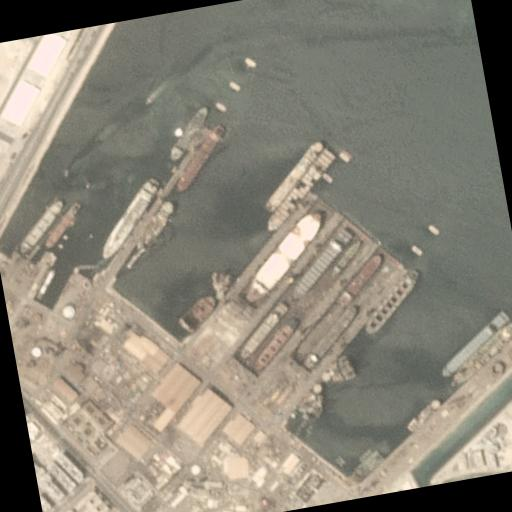ship: (232, 208, 334, 303), (256, 144, 346, 230), (90, 172, 172, 260), (254, 138, 333, 212), (432, 306, 512, 375), (163, 120, 233, 192), (440, 318, 512, 387), (354, 266, 426, 334), (11, 198, 70, 254), (160, 104, 216, 160), (128, 198, 180, 252), (38, 198, 88, 248), (141, 95, 153, 106)
